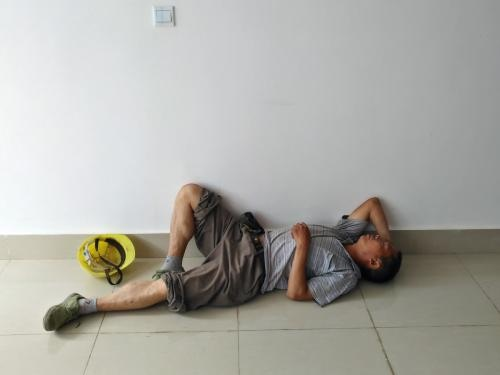falling: (39, 166, 407, 331)
